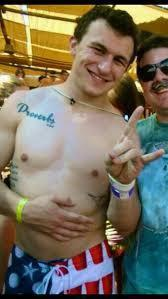Drunk: (80, 17, 131, 97)
